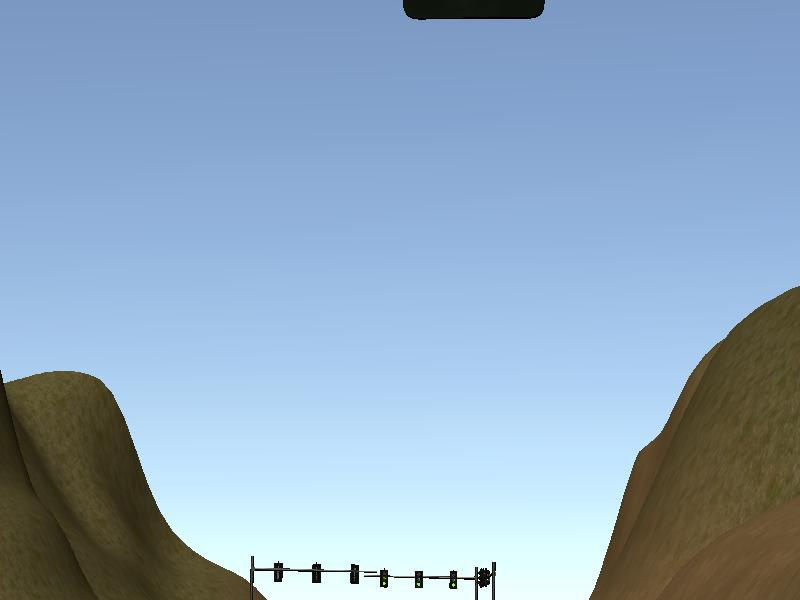green_light: (379, 570, 390, 591), (414, 570, 424, 587), (450, 571, 458, 591)
